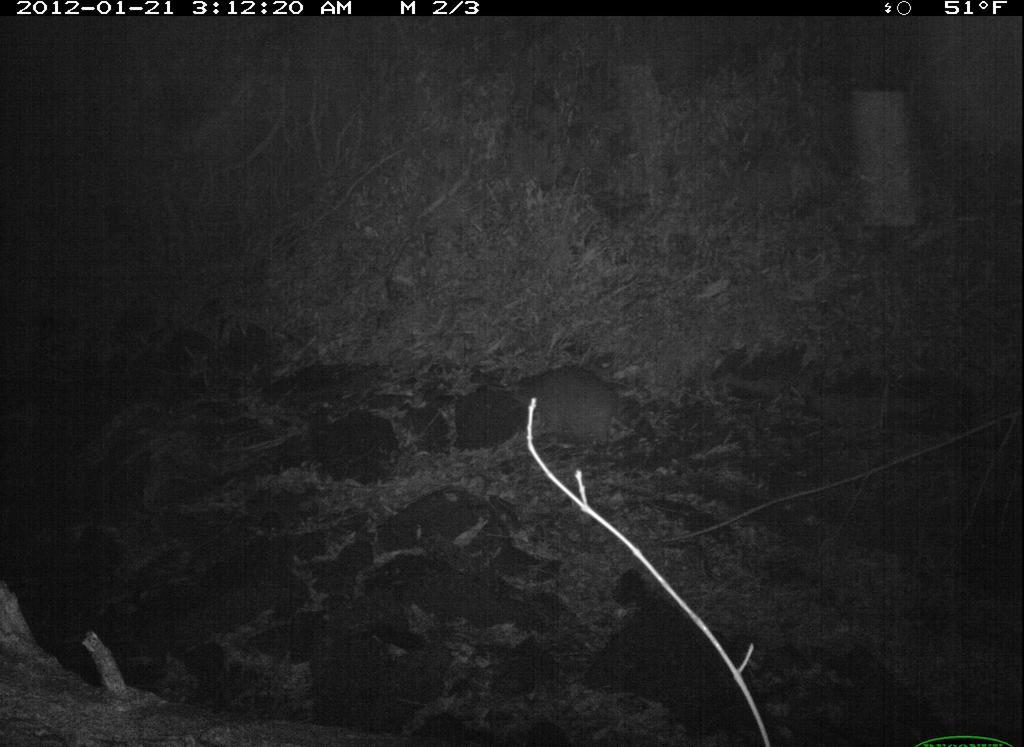raccoon: (495, 360, 671, 465)
